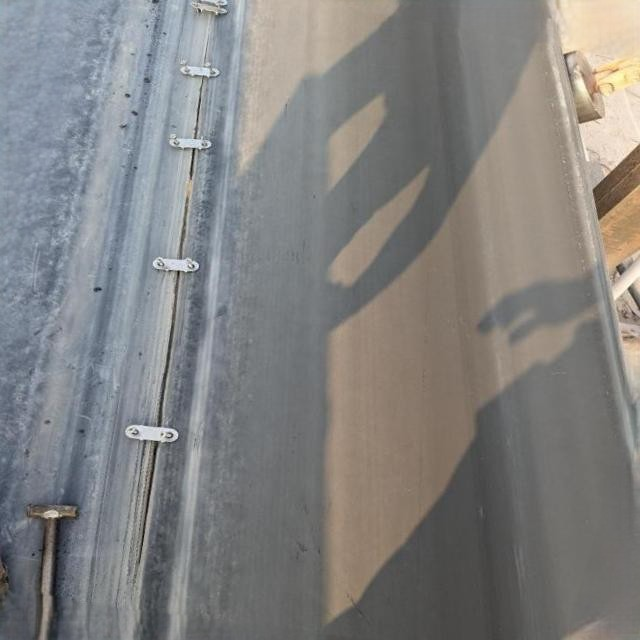Tear: (118, 0, 232, 617)
